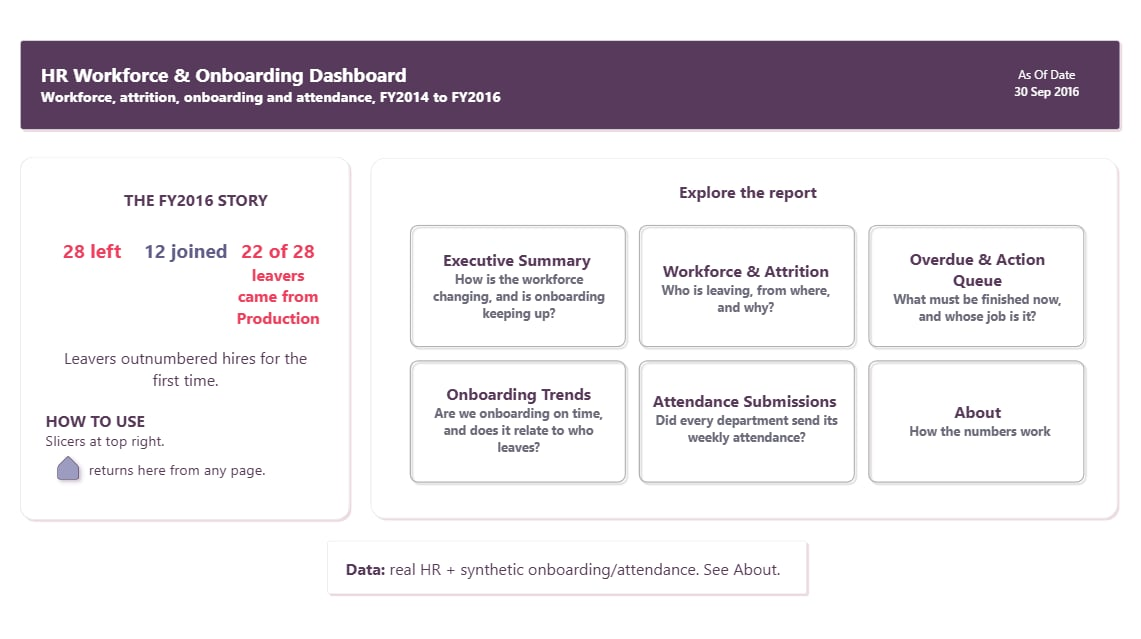

This screenshot's page, from the dashboard's own definition file:
{"tool":"powerbi","page":{"name":"Home","canvas":[1920,1080],"ordinal":0},"visuals":[{"type":"group","id":"g1","title":"Header","box":[37.5,70.5,1844.4,160],"z":0},{"type":"shape","title":"Title Shape","box":[37.5,70.5,1844.4,160],"z":0,"group":"g1"},{"type":"textbox","title":"Executive Summary Text","box":[722,422,306,122],"z":0,"group":"g3"},{"type":"textbox","title":"How to use text","box":[86,674,466,178],"z":0,"group":"g4"},{"type":"shape","title":" Shape","box":[550,904,810,100],"z":0,"group":"g2"},{"type":"textbox","title":"Title","box":[40.5,93.5,1834.4,100],"z":1000,"group":"g1"},{"type":"textbox","title":"Workforce & Attrition Text","box":[1097.4,440.3,310,97.5],"z":1000,"group":"g3"},{"type":"actionButton","title":"Home Button","box":[94.4,755.2,59.1,62.9],"z":1000,"group":"g4"},{"type":"textbox","title":"Data text","box":[586,920,748,68],"z":1000,"group":"g2"},{"type":"group","id":"g2","title":"Data","box":[550,904,810,100],"z":1312},{"type":"cardVisual","title":"AsOf Card","fields":{"Data":["_Measures.As Of Date"]},"box":[1660.5,109.5,185.7,72.9],"z":2000,"group":"g1"},{"type":"textbox","title":"Overdue & Action Queue text","box":[1484.6,420.3,310,138.6],"z":2000,"group":"g3"},{"type":"shape","title":" Shape","box":[622.7,266.3,1256,612],"z":2625},{"type":"group","id":"g3","title":"Page Navigation","box":[686,376,1138,444],"z":3000},{"type":"textbox","title":"About text","box":[1487.4,676,310,81.4],"z":3000,"group":"g3"},{"type":"shape","title":" Shape","box":[38,264.7,560,616],"z":3500},{"type":"textbox","title":"Attendance submissions text","box":[1097.4,657.4,312.9,101.4],"z":4000,"group":"g3"},{"type":"group","id":"g4","title":"How to use","box":[86,674,466,178],"z":4000},{"type":"textbox","title":"Leavers outnumbered text","box":[106.7,585,426.7,80],"z":5000},{"type":"textbox","title":"Onboarding Trends text","box":[717.4,646,312.9,140],"z":5000,"group":"g3"},{"type":"textbox","title":"The FY2016 Story Text","box":[85,305,465,70],"z":6000},{"type":"pageNavigator","box":[686,376,1138,444],"z":6000,"group":"g3"},{"type":"textbox","title":"28 left text","box":[86.7,388.3,155,181.7],"z":7000},{"type":"textbox","title":"12 joined text","box":[241.7,388.3,155,181.7],"z":8000},{"type":"textbox","title":"22 of 28 leavers text","box":[396.7,388.3,155,185],"z":9000},{"type":"textbox","title":"The FY2016 Story Text","box":[1024.3,291.4,465,70],"z":9001}]}

Visuals, with their boxes in screenshot pixels (x1, y1, x2, y2), scaled from the page's 1920x1080 canvas onto the 1141x639 screenshot:
"Header" group: <bbox>22, 42, 1118, 136</bbox>
"Title Shape" shape: <bbox>22, 42, 1118, 136</bbox>
"Executive Summary Text" textbox: <bbox>429, 250, 611, 322</bbox>
"How to use text" textbox: <bbox>51, 399, 328, 504</bbox>
" Shape" shape: <bbox>327, 535, 808, 594</bbox>
"Title" textbox: <bbox>24, 55, 1114, 114</bbox>
"Workforce & Attrition Text" textbox: <bbox>652, 261, 836, 318</bbox>
"Home Button" actionButton: <bbox>56, 447, 91, 484</bbox>
"Data text" textbox: <bbox>348, 544, 793, 585</bbox>
"Data" group: <bbox>327, 535, 808, 594</bbox>
"AsOf Card" cardVisual: <bbox>987, 65, 1097, 108</bbox>
"Overdue & Action Queue text" textbox: <bbox>882, 249, 1066, 331</bbox>
" Shape" shape: <bbox>370, 158, 1116, 520</bbox>
"Page Navigation" group: <bbox>408, 222, 1084, 485</bbox>
"About text" textbox: <bbox>884, 400, 1068, 448</bbox>
" Shape" shape: <bbox>23, 157, 355, 521</bbox>
"Attendance submissions text" textbox: <bbox>652, 389, 838, 449</bbox>
"How to use" group: <bbox>51, 399, 328, 504</bbox>
"Leavers outnumbered text" textbox: <bbox>63, 346, 317, 393</bbox>
"Onboarding Trends text" textbox: <bbox>426, 382, 612, 465</bbox>
"The FY2016 Story Text" textbox: <bbox>51, 180, 327, 222</bbox>
pageNavigator: <bbox>408, 222, 1084, 485</bbox>
"28 left text" textbox: <bbox>52, 230, 144, 337</bbox>
"12 joined text" textbox: <bbox>144, 230, 236, 337</bbox>
"22 of 28 leavers text" textbox: <bbox>236, 230, 328, 339</bbox>
"The FY2016 Story Text" textbox: <bbox>609, 172, 885, 214</bbox>
